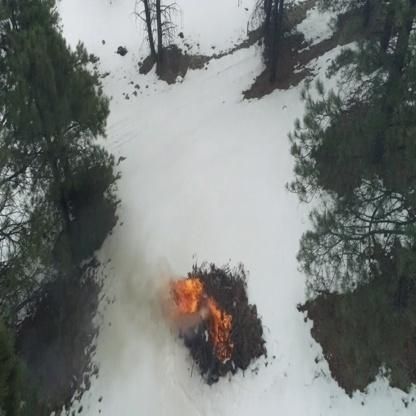Fire: (174, 277, 204, 315), (212, 311, 231, 362), (208, 296, 221, 324)
